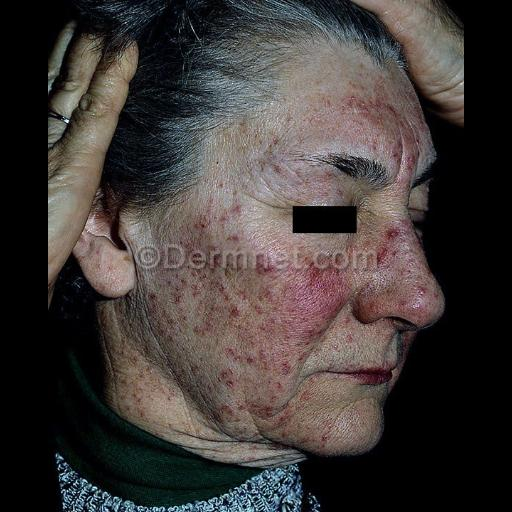Skin_Lesion: (294, 197, 358, 339), (250, 398, 298, 436), (376, 221, 402, 273), (274, 357, 310, 393), (223, 289, 247, 325), (193, 198, 211, 244), (216, 358, 238, 394), (340, 80, 366, 110), (258, 248, 276, 290), (414, 283, 440, 307), (210, 254, 234, 274), (381, 91, 397, 111)
